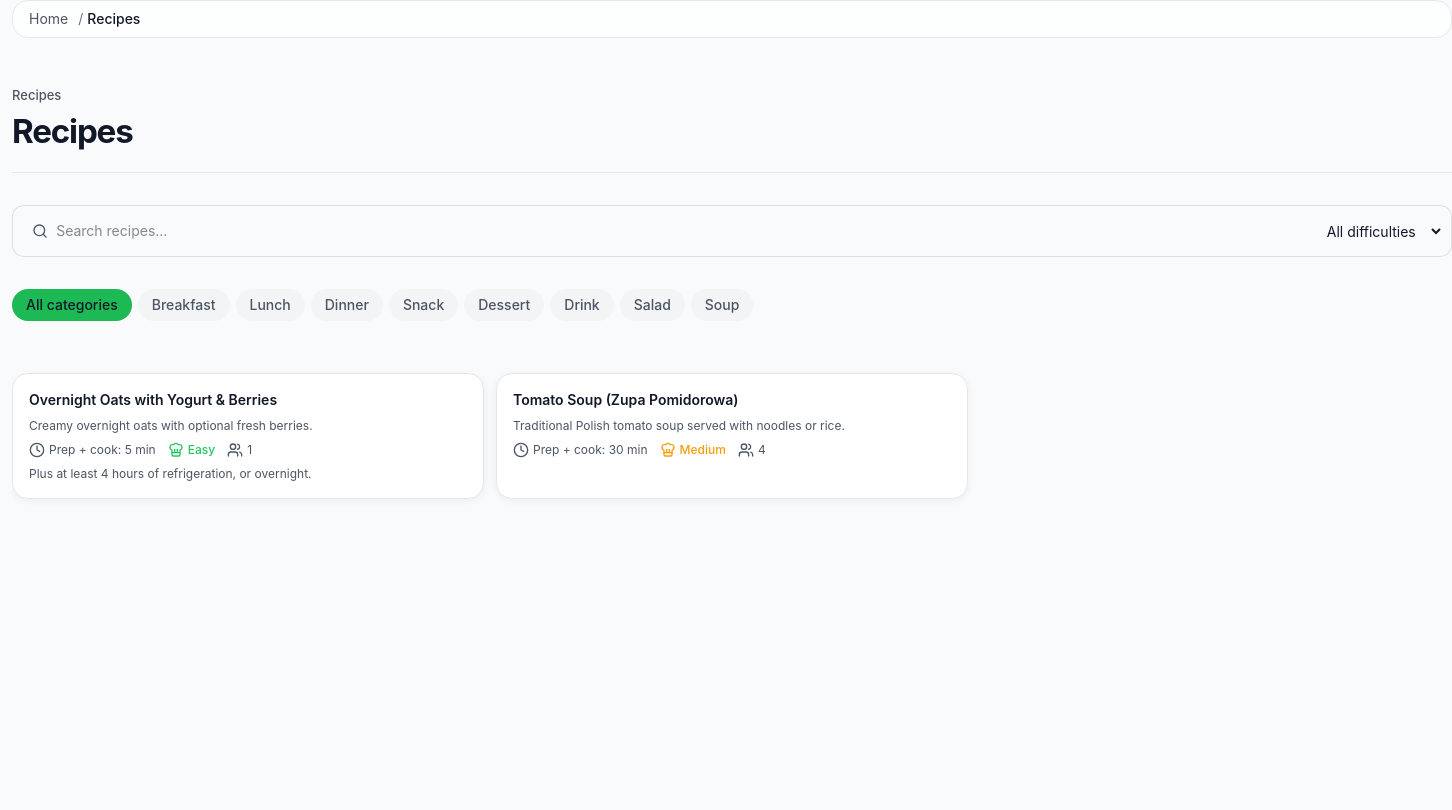
RecipesBrowsePage › removes category chip when its remove button is clicked
Click the tab "Breakfast".
click(184, 305)  # box [138,289,230,321]
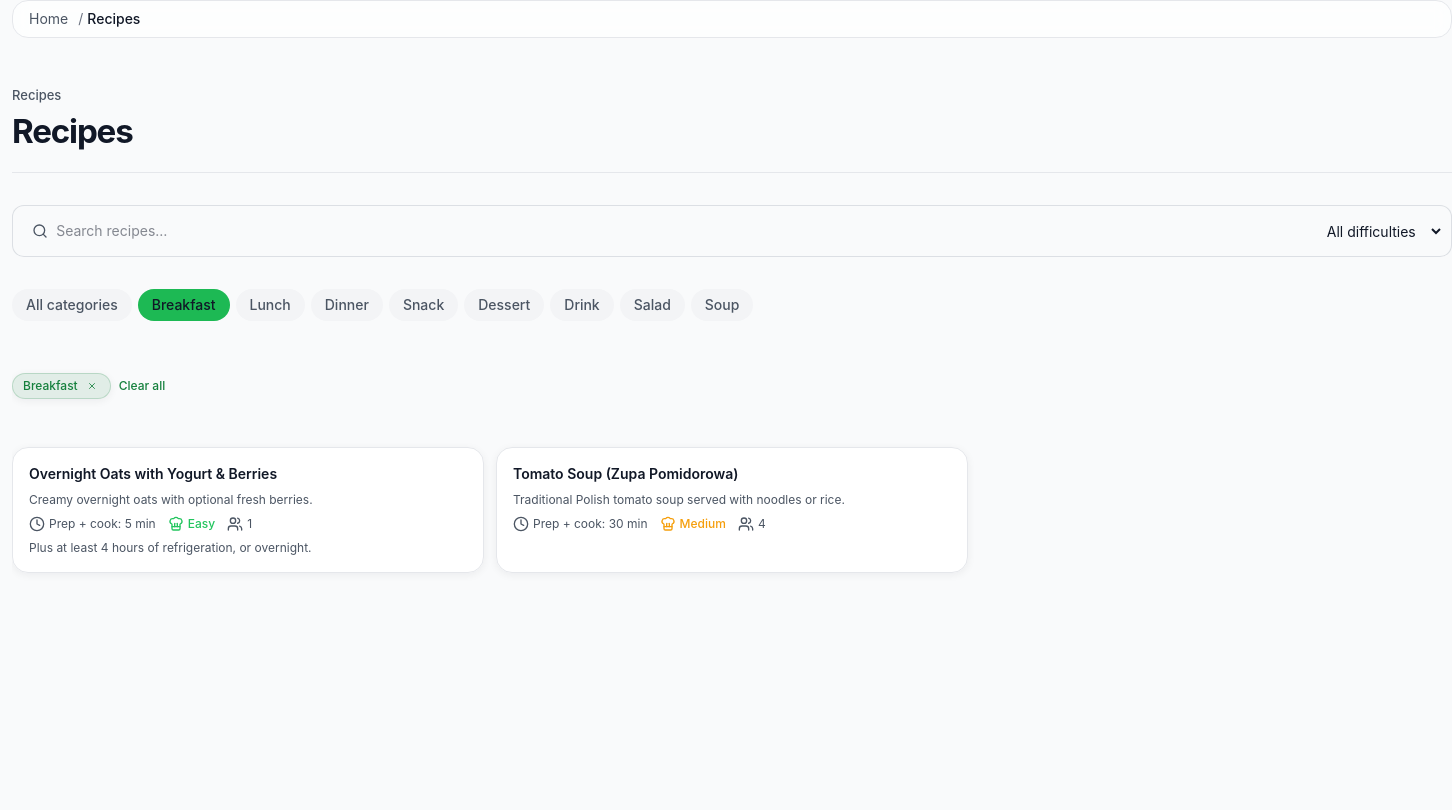
Check: the element with test id "active-filter-chips" is shown, box [12,373,165,399]
Click the button named "Remove Breakfast".
click(92, 386)  # box [84,378,100,394]
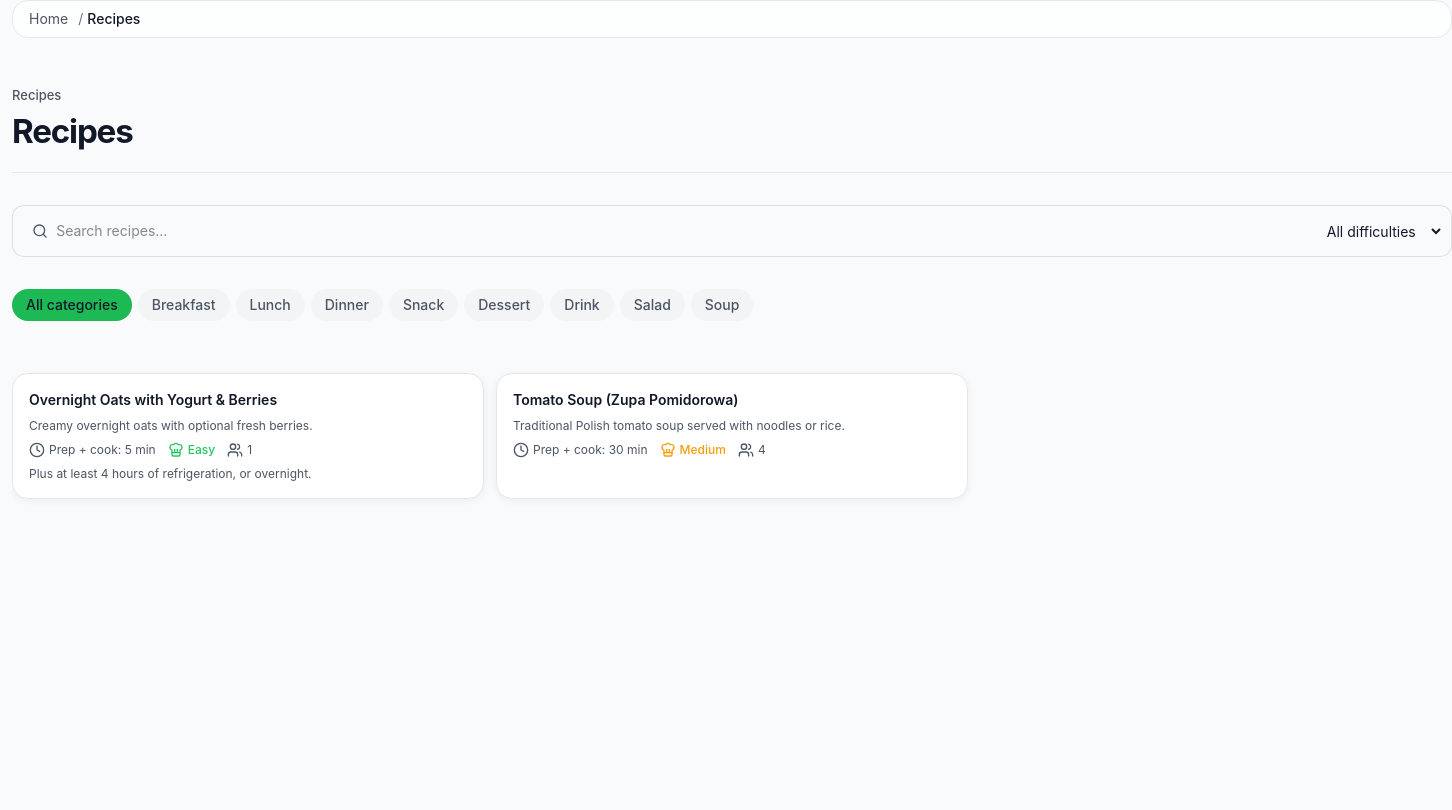
Check: the element with test id "active-filter-chips" is gone
